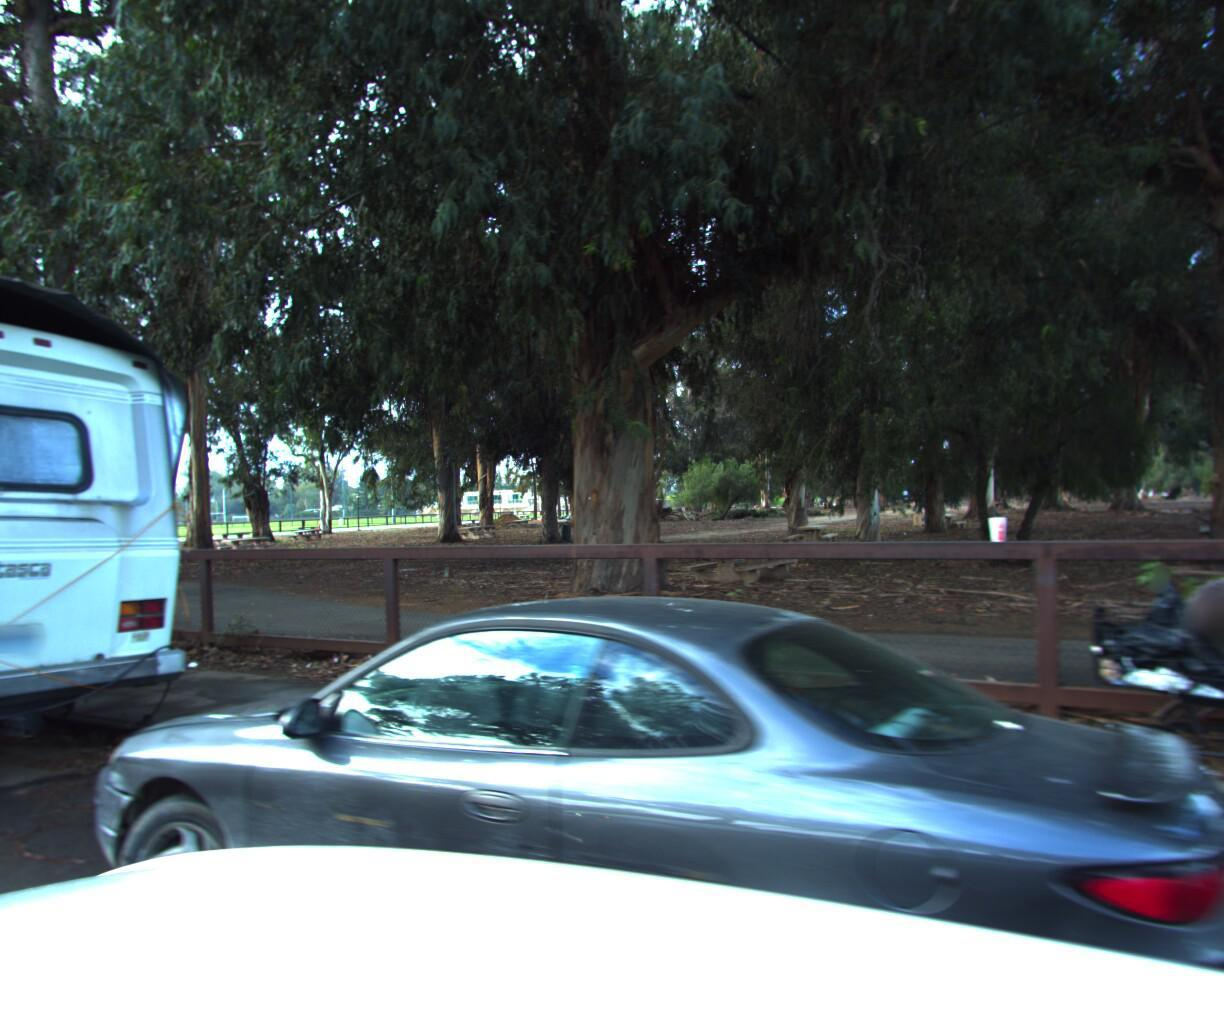car: (12, 569, 1224, 1024)
other_vehicle: (0, 220, 236, 879)
